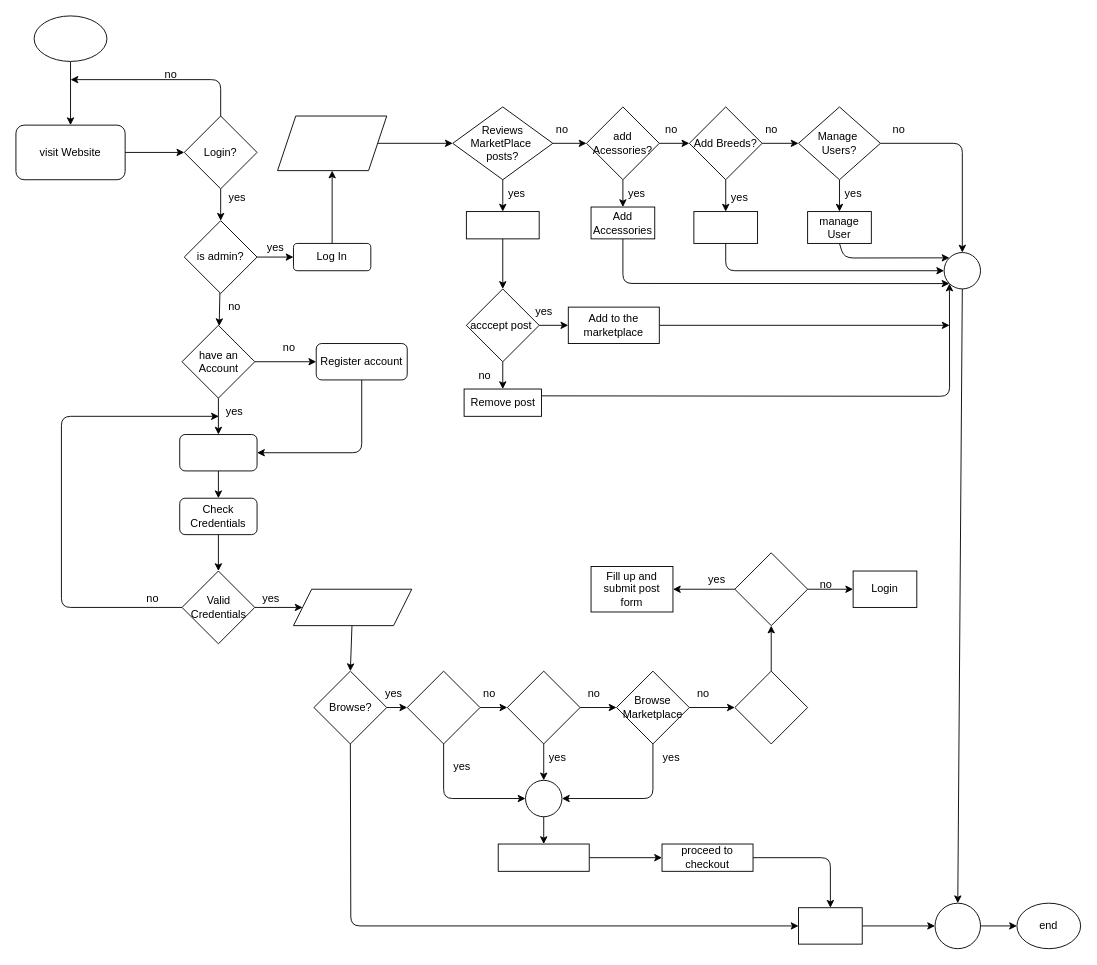
Some shapes in this 1097 by 965 pixel diagram are drawn without their labels. The shapes that lost their labels are listed below. From the top down, each one's box as (x1, y1, x2, y2) in pixels, then its label:
(33, 15, 107, 61): Start
(277, 115, 387, 171): View Admin Dashboard
(465, 211, 539, 239): review post
(693, 211, 758, 243): Add Breeds
(179, 434, 257, 471): Enter Credentials
(293, 588, 412, 626): View User Page
(734, 552, 808, 626): is logged in?
(406, 670, 480, 744): Browse pets
(506, 670, 580, 744): Browse Acessories
(734, 670, 808, 744): Sell pet
(497, 843, 589, 871): Add To cart
(798, 907, 862, 944): Exit
